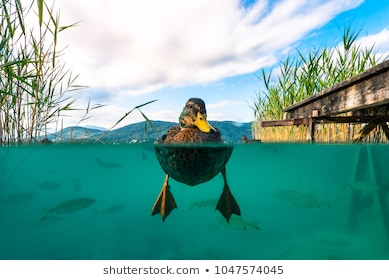duck: (152, 145, 249, 226), (128, 86, 234, 143)
